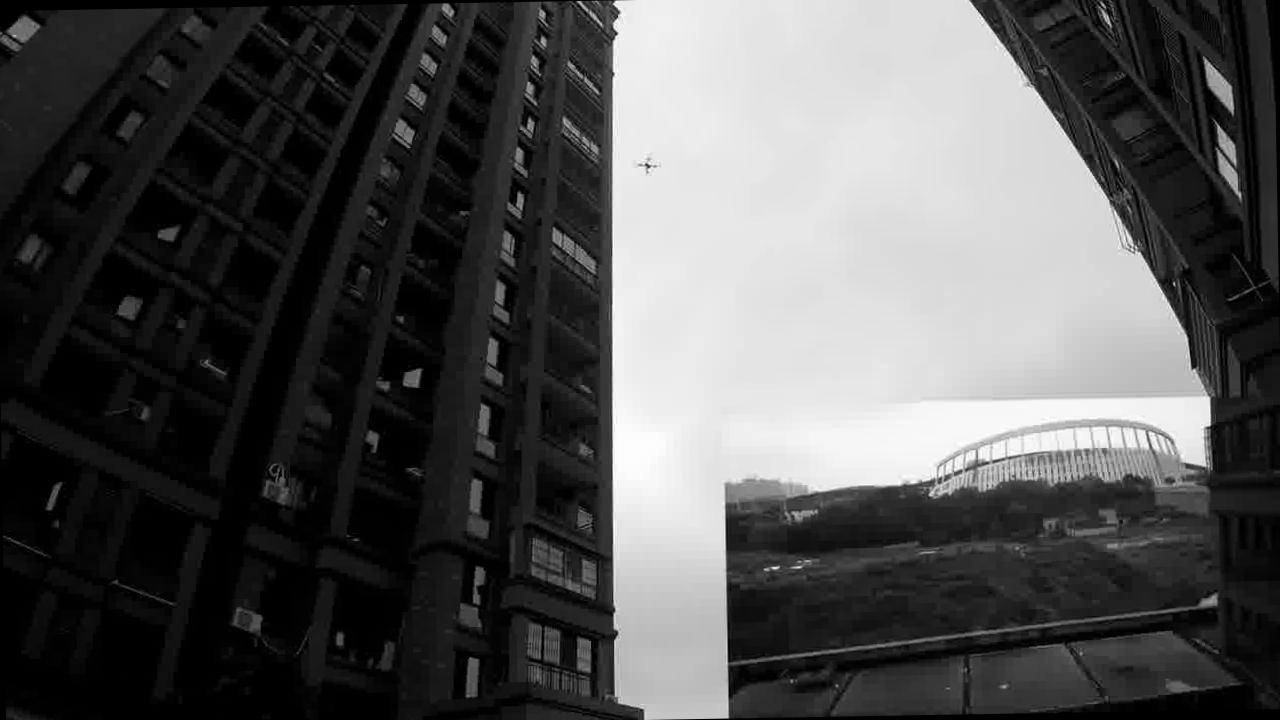drone: (630, 151, 664, 180)
